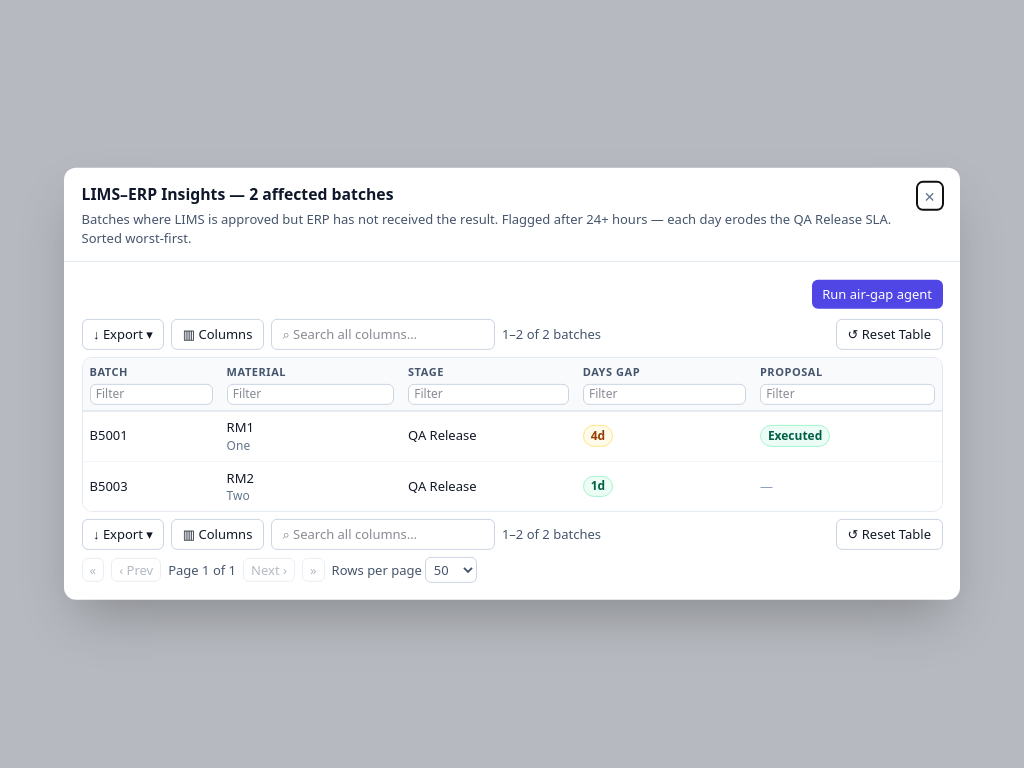
it: F14-FR-12: a candidate with no recording gets its own row message and the run still creates the others
The image size is (1024, 768).
Click the button "Run air-gap agent". click: click(877, 294)
box: [812,280,943,309]
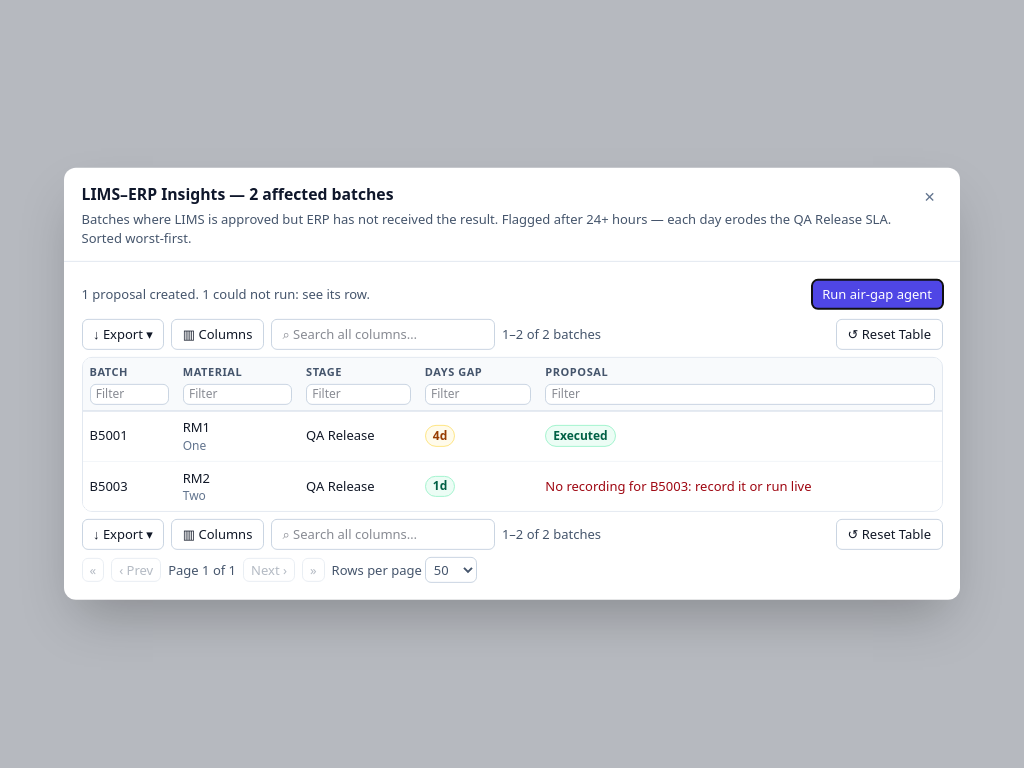
Expected: the text with test id "run-result" reads "1 proposal created. 1 could not run: see its row.", [82,285,370,303]
Expected: the text with test id "row-error" reads "No recording for B5003: record it or run live", [545,477,812,495]
